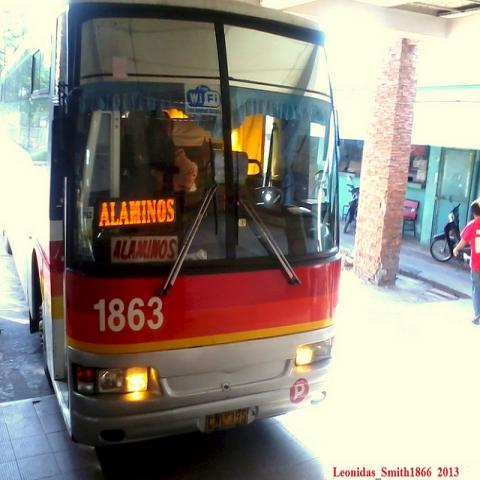bus: (1, 1, 342, 446)
motorcycle: (430, 202, 461, 262), (342, 173, 360, 235)
